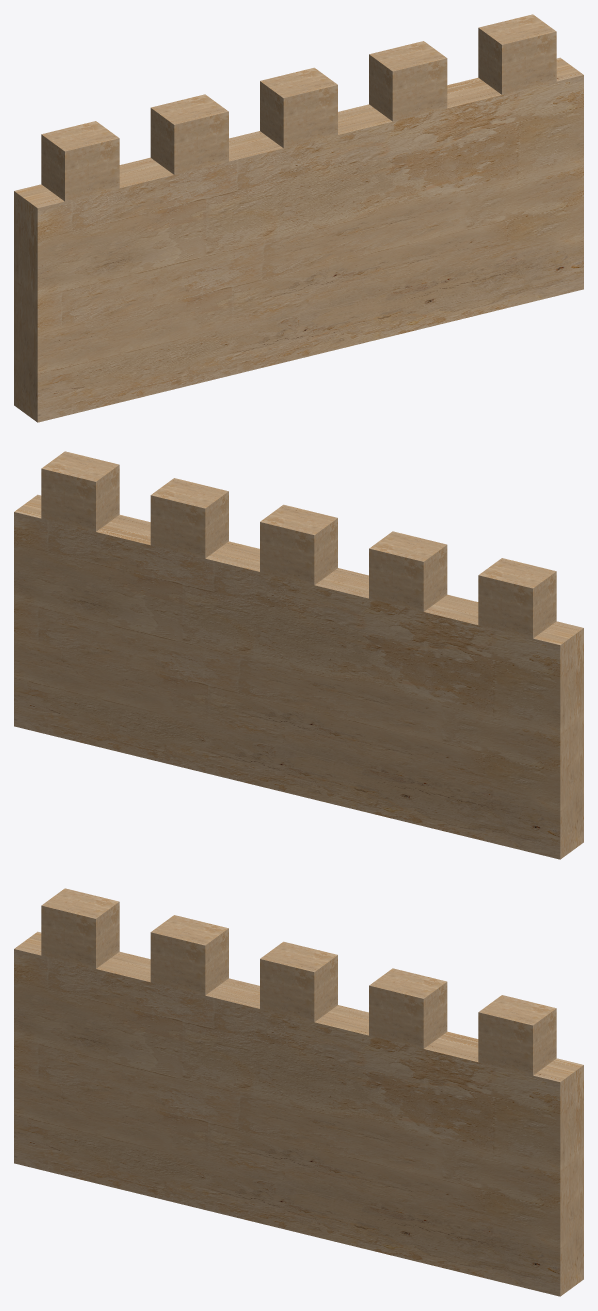
File: walls.gltf
3 views of the same model, one above another, from view 1: azimuth 30°, elevation 25°; view 2: azimuth 150°, elevation 25°; view 3: azimuth 330°, elevation 25° (orthographic).
Visible parts, largest first — view 1: walls_wall, walls_merlon_0, walls_merlon_1, walls_merlon_3, walls_merlon_4, walls_merlon_2; view 2: walls_wall, walls_merlon_0, walls_merlon_1, walls_merlon_3, walls_merlon_4, walls_merlon_2; view 3: walls_wall, walls_merlon_4, walls_merlon_1, walls_merlon_3, walls_merlon_0, walls_merlon_2.
Part boxes in pixels (x1,y1,x2,y2): walls_wall: [14, 57, 583, 422]; walls_merlon_0: [41, 121, 119, 201]; walls_merlon_1: [150, 94, 228, 174]; walls_merlon_3: [369, 41, 447, 121]; walls_merlon_4: [478, 14, 556, 94]; walls_merlon_2: [260, 67, 337, 148]; walls_wall: [14, 494, 583, 859]; walls_merlon_0: [478, 558, 556, 638]; walls_merlon_1: [369, 531, 447, 611]; walls_merlon_3: [150, 478, 228, 558]; walls_merlon_4: [41, 451, 119, 531]; walls_merlon_2: [260, 504, 337, 585]; walls_wall: [14, 931, 583, 1296]; walls_merlon_4: [478, 995, 556, 1075]; walls_merlon_1: [150, 915, 228, 995]; walls_merlon_3: [369, 968, 447, 1048]; walls_merlon_0: [41, 888, 119, 968]; walls_merlon_2: [260, 941, 337, 1022].
Bounding box in the file's own units: 8 × 3.7 × 0.6.
Materials: 1 (1 with a texture image).
